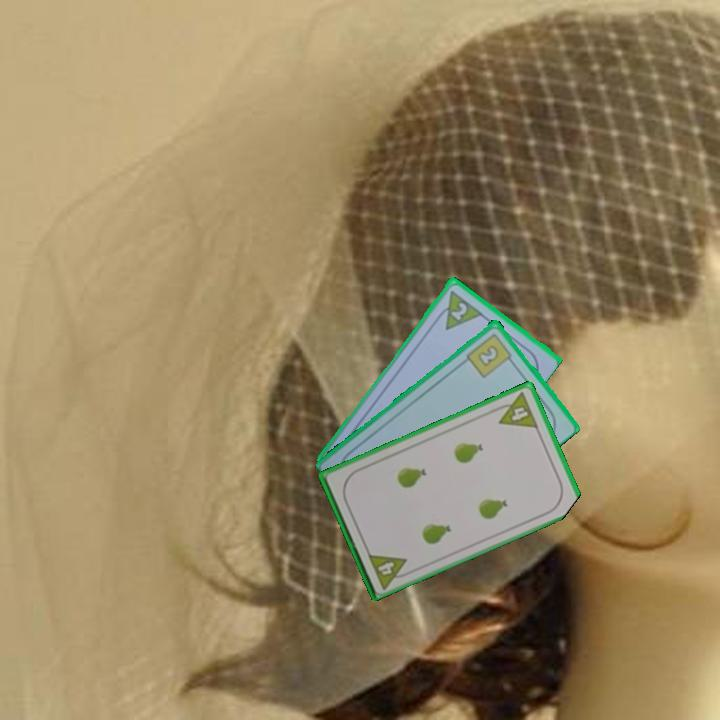2b: (463, 329, 517, 380)
2p: (447, 298, 470, 323)
4p: (490, 389, 541, 431), (364, 549, 414, 591)
